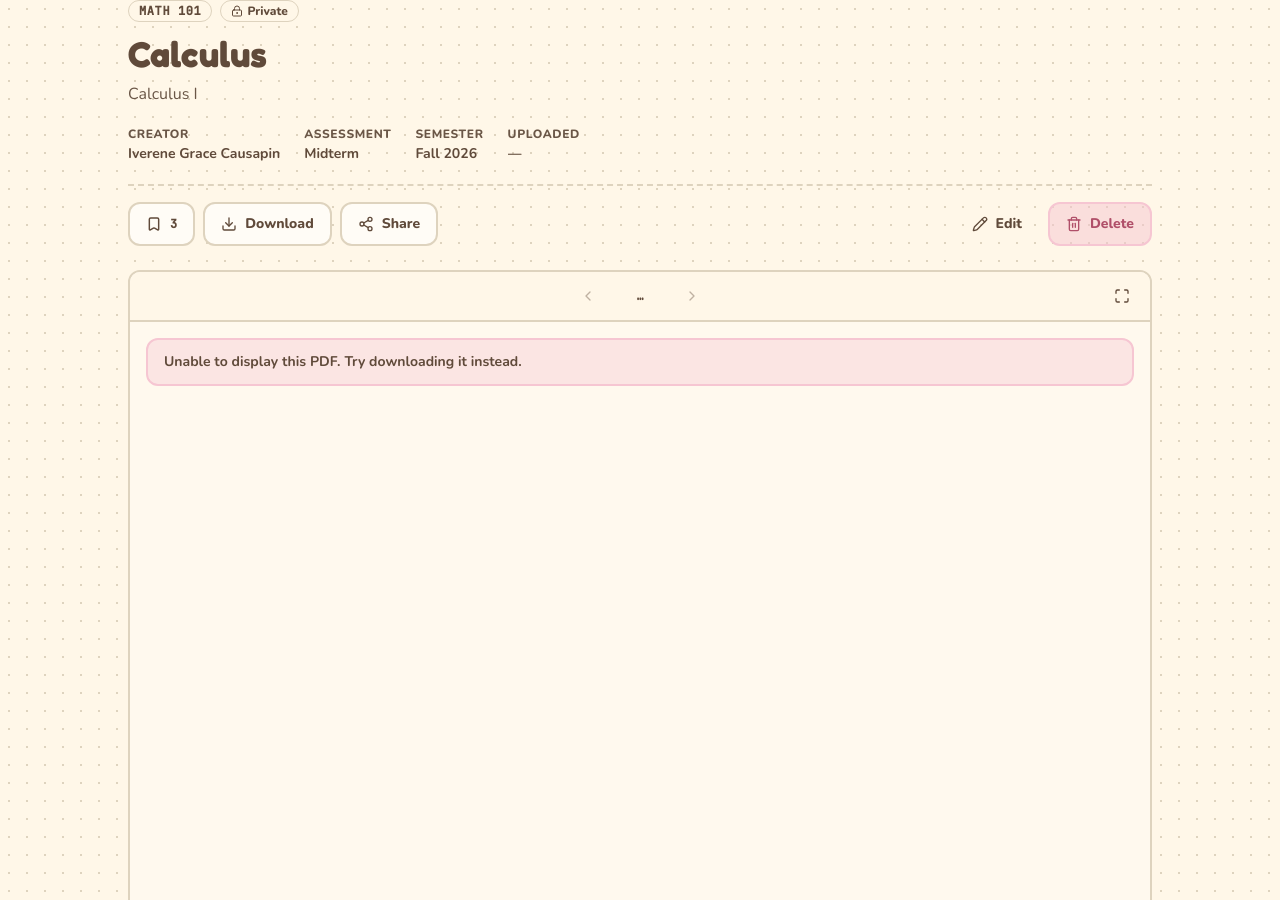
Test: Reviewer › closes the share dialog with Escape
Click the button "Share" at x=389, y=224, box [340,202,438,246]
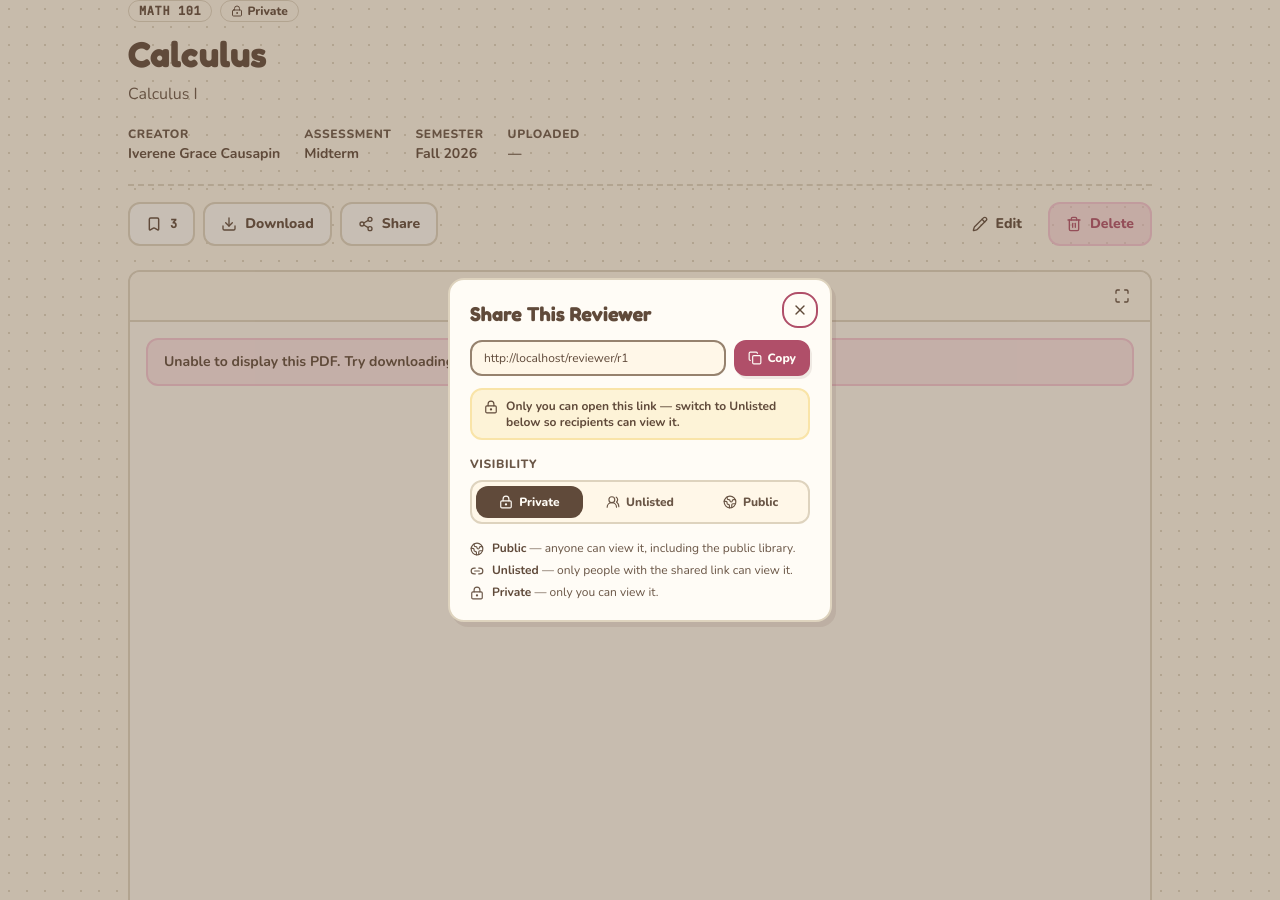
Result: the dialog "Share This Reviewer" is shown at [448,278,832,622]
Press Escape
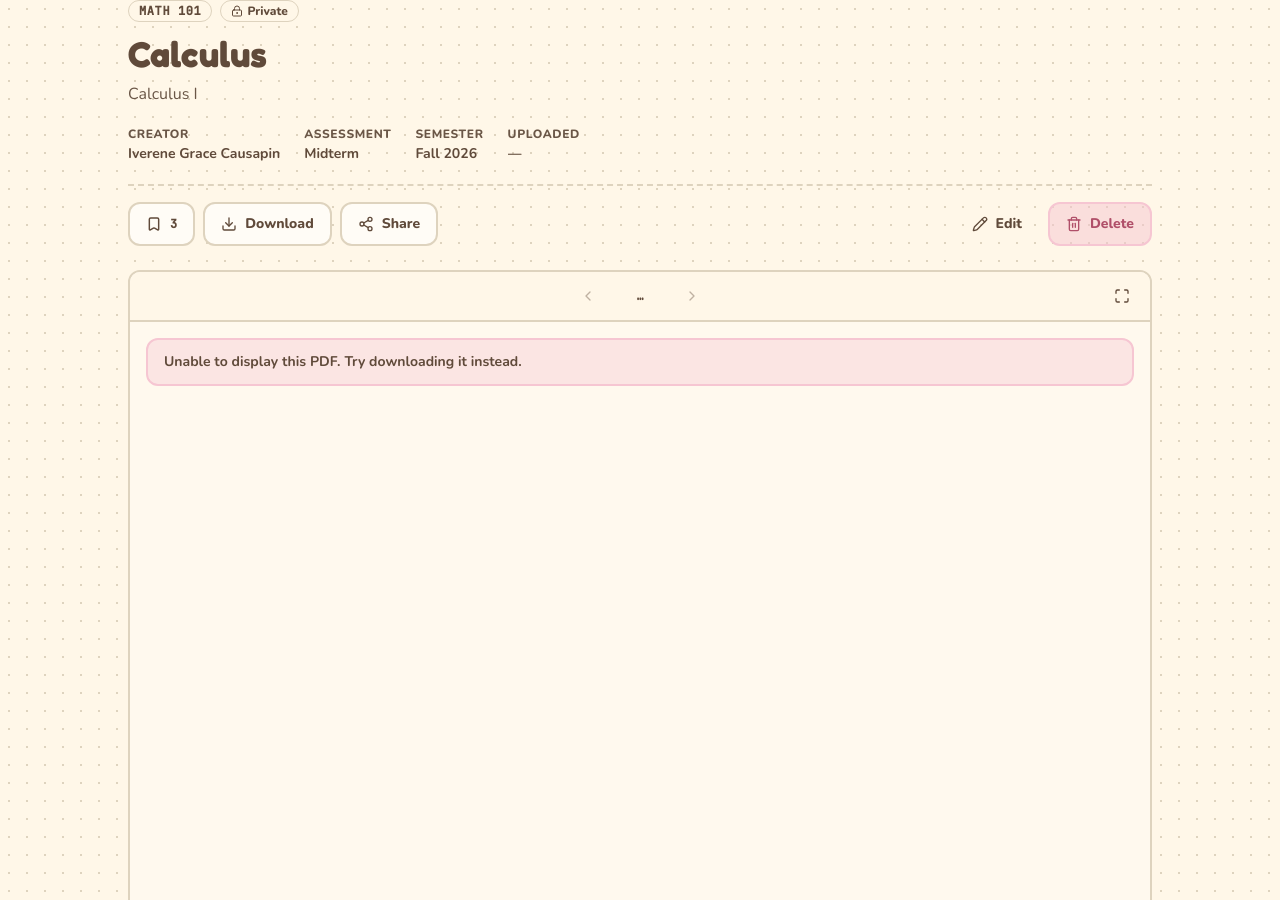
Result: the heading "Share This Reviewer" is gone
